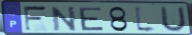8: (109, 6, 130, 33)
E: (78, 7, 106, 32)
F: (22, 5, 50, 33)
L: (134, 4, 159, 34)
N: (49, 6, 78, 32)
U: (160, 5, 188, 33)
